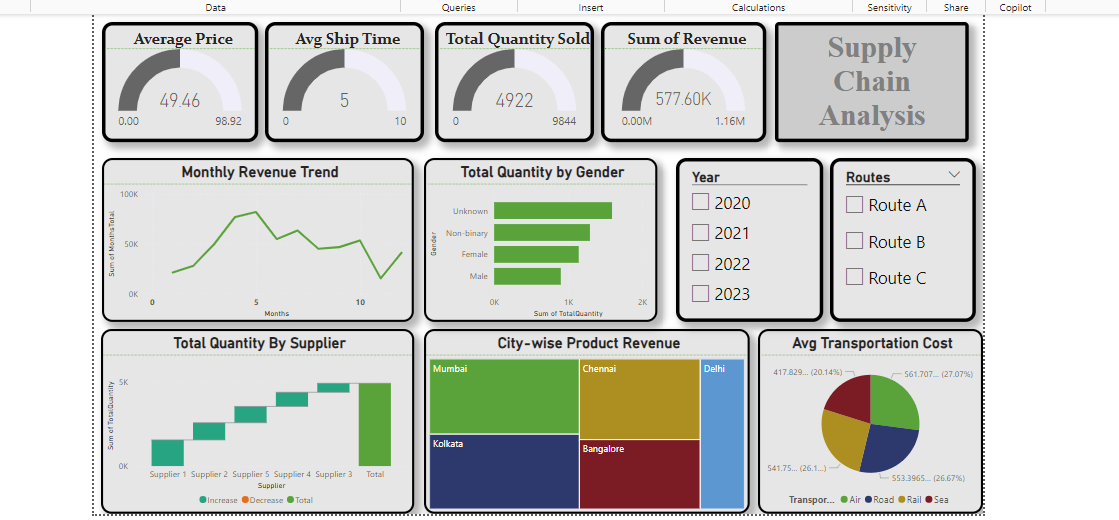

Layout of this report page (visuals, bound fields, positions):
{"tool":"powerbi","page":{"name":"Page 1","canvas":[1280,720],"ordinal":0},"visuals":[{"type":"gauge","fields":{"Y":["Sum(AvgPrice.Avg Price )"]},"box":[11.5,11.5,224.6,172.8],"z":0},{"type":"gauge","fields":{"Y":["Sum(AvgShipTime.Avg Ship Time)"]},"box":[246.2,11.5,229,172.8],"z":1000},{"type":"gauge","fields":{"Y":["Sum(TotalItemSold.Total Quantity)"]},"box":[491,11.5,229,172.8],"z":2000},{"type":"gauge","fields":{"Y":["Sum(Supply_Data.Revenue)"]},"box":[730.1,11.5,237.6,172.8],"z":3000},{"type":"lineChart","title":"Monthly Revenue Trend","fields":{"Category":["MonthWiseSales.Months"],"Y":["Sum(MonthWiseSales.MonthsTotal)"]},"box":[11.5,207.4,449.3,236.2],"z":4000},{"type":"treemap","title":"City-wise Product Revenue","fields":{"Group":["LocationSales.Location"],"Values":["Sum(LocationSales.MonthsTotal)"]},"box":[475.2,453.6,469.4,266.4],"z":5000},{"type":"barChart","title":"Total Quantity by Gender","fields":{"Category":["GenderswiseQuantity.Gender"],"Y":["Sum(GenderswiseQuantity.TotalQuantity)"]},"box":[475.2,207.4,335.5,236.2],"z":6000},{"type":"waterfallChart","title":"Total Quantity By Supplier","fields":{"Category":["Supplierss.Supplier"],"Y":["Sum(Supplierss.TotalQuantity)"]},"box":[10.1,453.6,450.7,266.4],"z":7000},{"type":"pieChart","title":"Avg Transportation Cost","fields":{"Category":["Transportation.Transportation_modes"],"Y":["Sum(Transportation.Avg Costs)"]},"box":[956.2,453.6,324,266.4],"z":8000},{"type":"slicer","fields":{"Values":["Years.Year"]},"box":[838.1,207.4,211.7,236.2],"z":9000},{"type":"slicer","fields":{"Values":["RouteWiseCost.Routes"]},"box":[1059.8,207.4,210.2,236.2],"z":10000},{"type":"textbox","box":[1060,12,210,173],"z":11000},{"type":"textbox","box":[980.6,11.5,279.4,172.8],"z":12000}]}

Visuals, with their boxes in screenshot pixels (x1, y1, x2, y2):
gauge - Sum(AvgPrice.Avg Price ): (104, 22, 258, 141)
gauge - Sum(AvgShipTime.Avg Ship Time): (265, 22, 422, 141)
gauge - Sum(TotalItemSold.Total Quantity): (433, 22, 590, 141)
gauge - Sum(Supply_Data.Revenue): (596, 22, 759, 141)
"Monthly Revenue Trend" lineChart: (104, 157, 412, 319)
"City-wise Product Revenue" treemap: (422, 325, 743, 508)
"Total Quantity by Gender" barChart: (422, 157, 652, 319)
"Total Quantity By Supplier" waterfallChart: (103, 325, 412, 508)
"Avg Transportation Cost" pieChart: (751, 325, 973, 508)
slicer - Years.Year: (670, 157, 816, 319)
slicer - RouteWiseCost.Routes: (822, 157, 966, 319)
textbox: (823, 23, 966, 141)
textbox: (768, 22, 960, 141)
